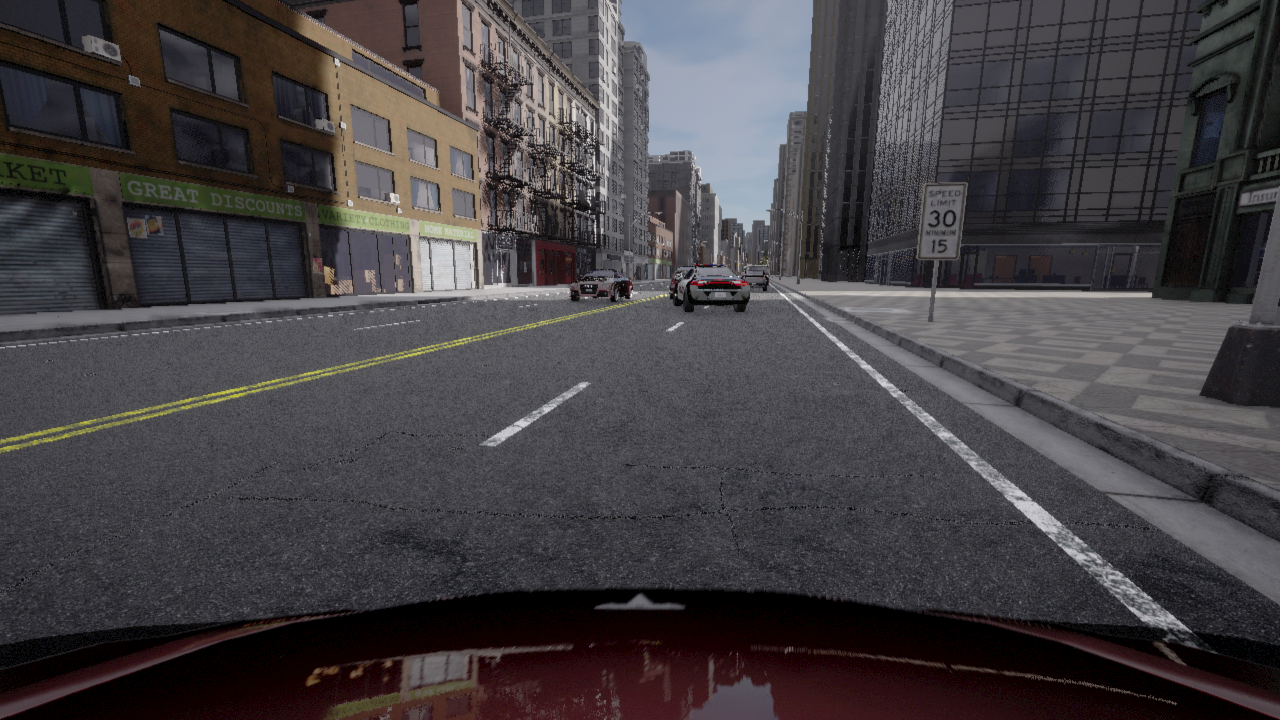cyclist: (0, 588, 1279, 719), (673, 264, 749, 311), (569, 269, 632, 301), (669, 267, 692, 298), (740, 270, 769, 291), (742, 265, 768, 284)
